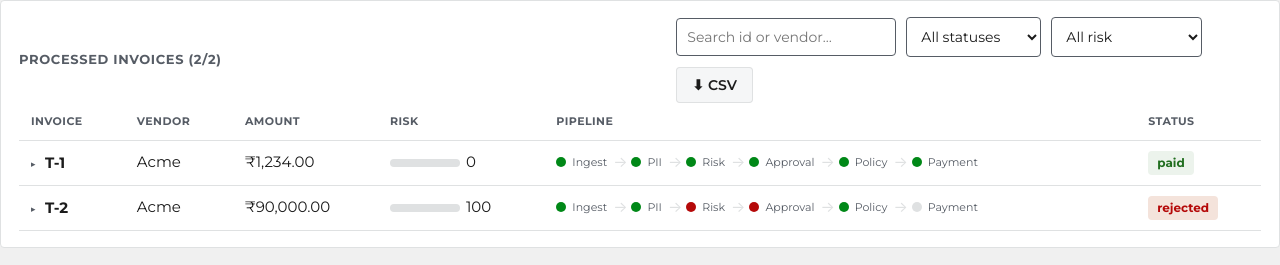
Test: InvoiceTable › filters by risk band
This screenshot has width=1280, height=265.
Select "High (75–100)" in the dropdown named "Filter by risk band": (1127, 37) [1051,17,1202,57]
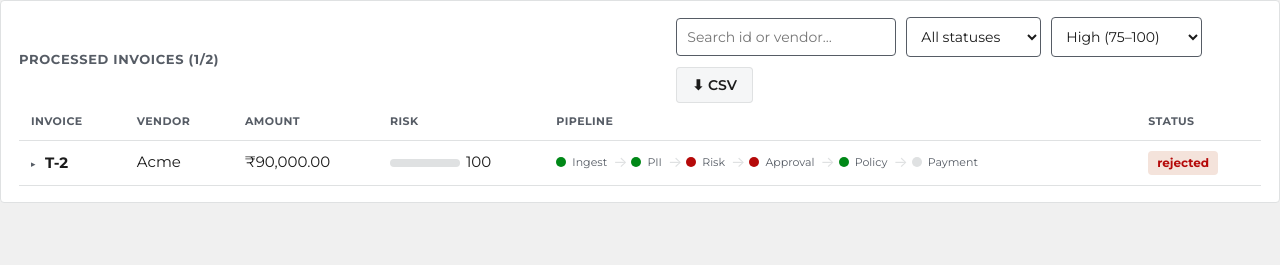
Now the heading "Processed invoices (1/2)" is shown, box [19,50,219,70]
